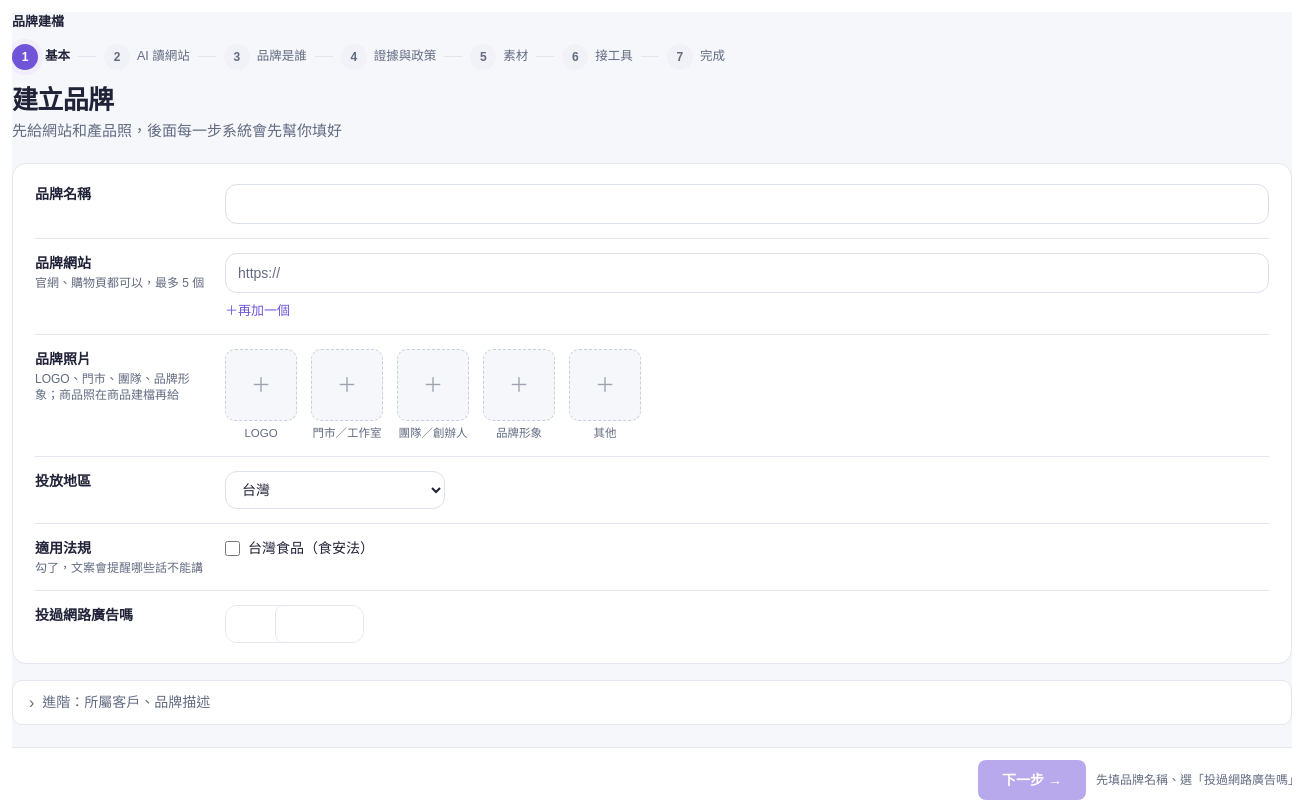
Test: StartStep › 品牌名稱和「投過網路廣告嗎」都選了才能往下
The image size is (1304, 812).
Check: the button "下一步 →" is disabled, box [978, 760, 1086, 800]
Type "虛構品牌" into the field labelled "品牌名稱" at [747, 204], box [225, 184, 1269, 224]
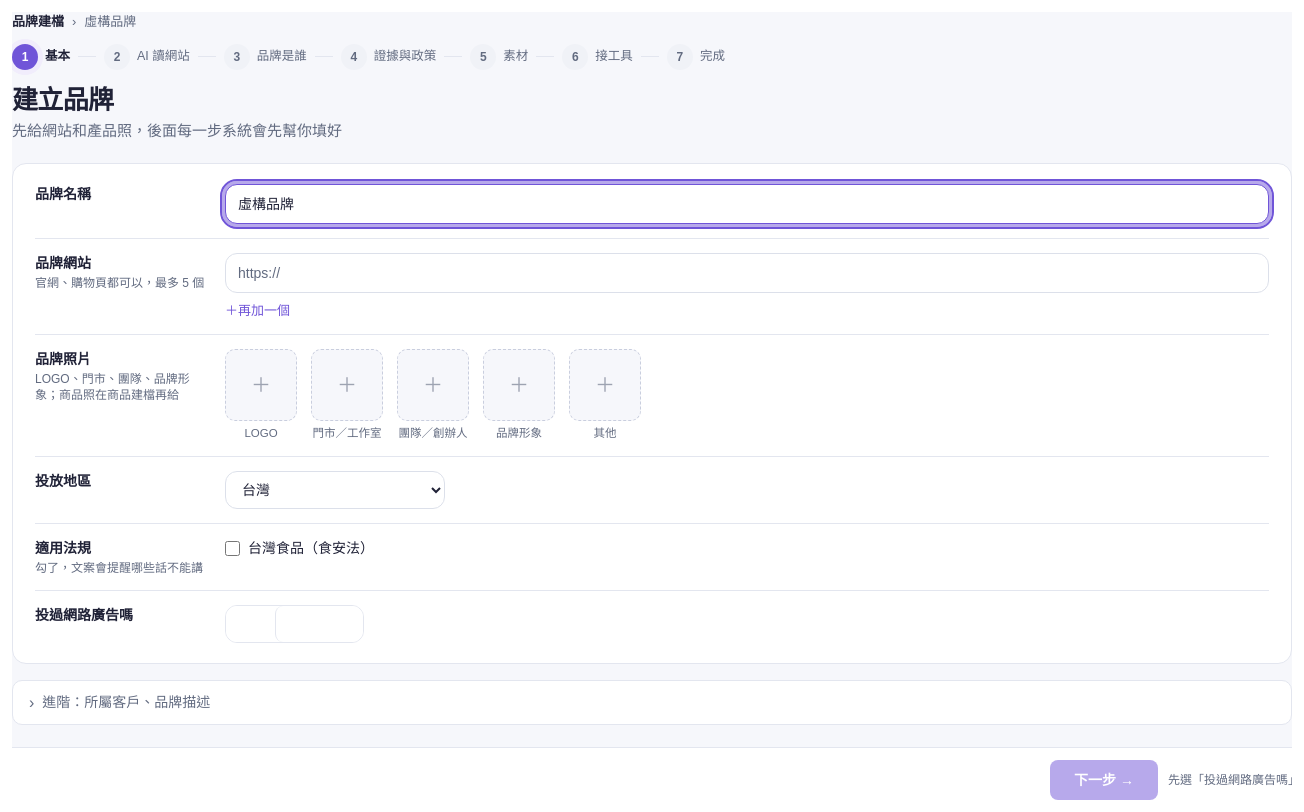
Check: the button "下一步 →" is disabled, box [1050, 760, 1158, 800]
Click the radio button labelled "完全沒投過" at [319, 624], box [275, 606, 362, 642]
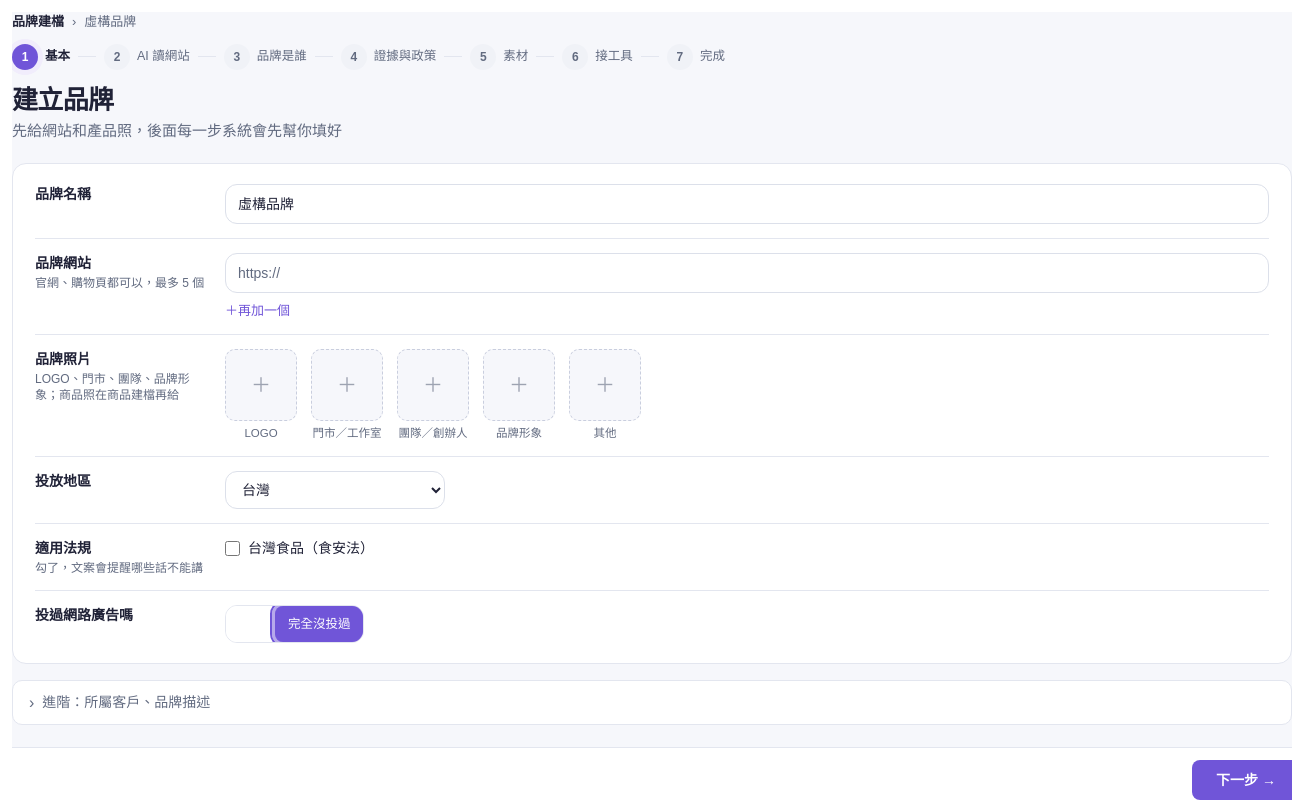
Check: the text "先選「投過網路廣告嗎」" is gone
